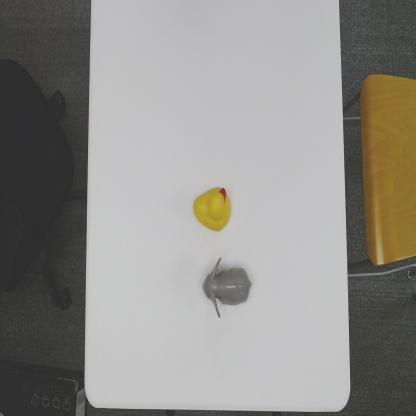Duck: (192, 184, 232, 233)
Elephant: (201, 255, 253, 320)
